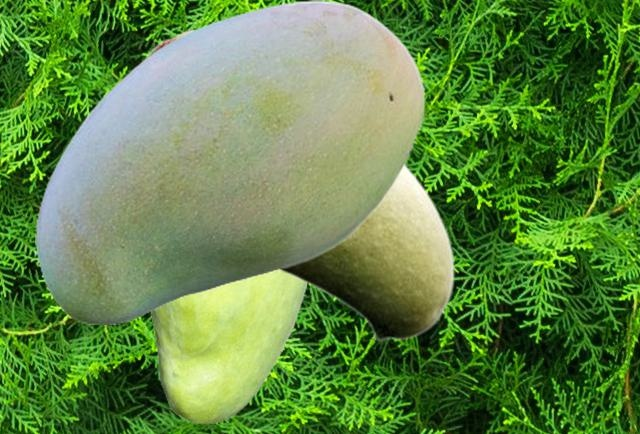green_mango: (35, 0, 425, 323), (139, 27, 454, 341), (148, 271, 309, 423)
